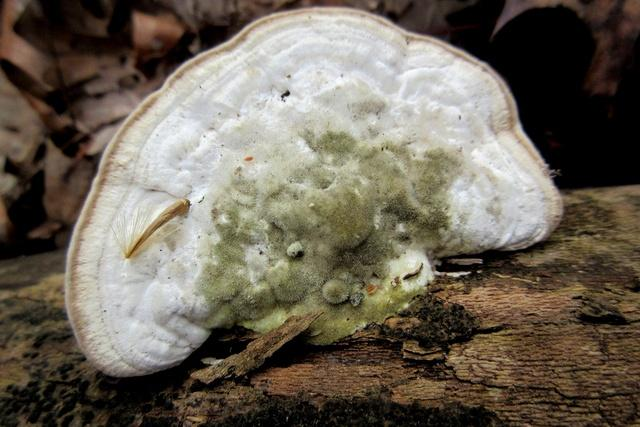poisonous_mushroom: (62, 6, 565, 378)
